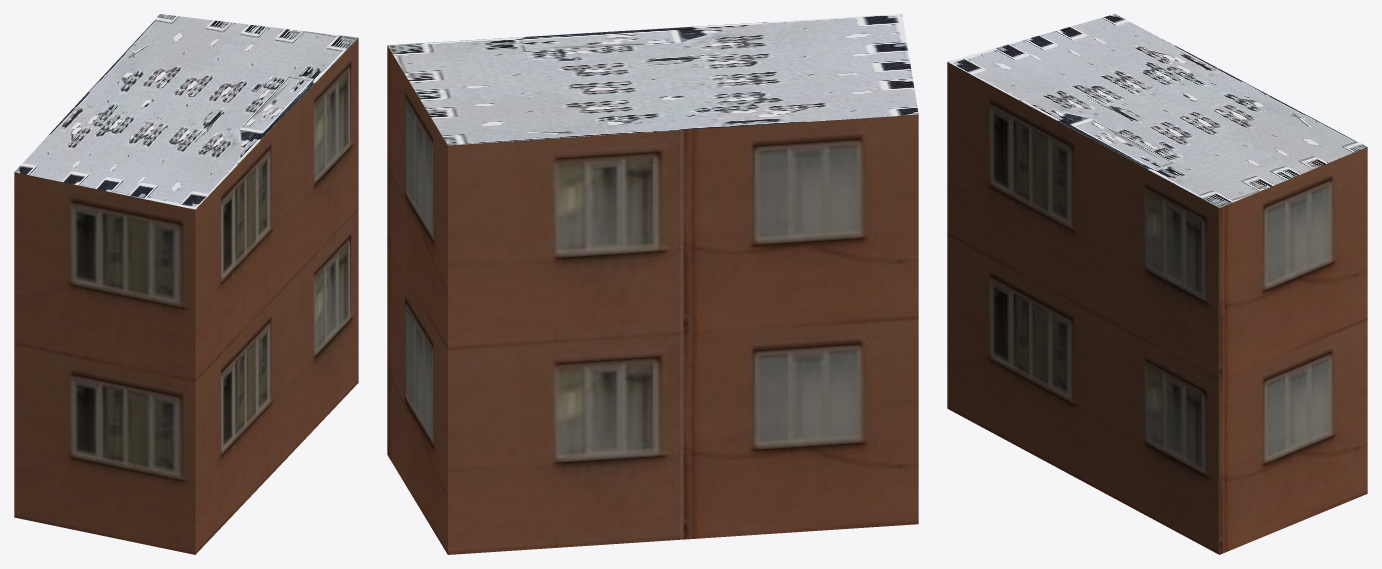
The model's file is ResTex__4532.fbx.
3 renders of one model, left to right at view 1: azimuth 30°, elevation 25°; view 2: azimuth 150°, elevation 25°; view 3: azimuth 270°, elevation 25°, orthographic. The views are drawn at different scales.
Visible parts, largest first — view 1: CityEngineMaterial_20_m, CityEngineMaterial_m; view 2: CityEngineMaterial_20_m, CityEngineMaterial_m; view 3: CityEngineMaterial_20_m, CityEngineMaterial_m.
Boxes of the visible parts, <box> form: CityEngineMaterial_20_m: <box>14,38,358,554</box>; CityEngineMaterial_m: <box>14,14,357,209</box>; CityEngineMaterial_20_m: <box>387,46,918,554</box>; CityEngineMaterial_m: <box>387,14,918,145</box>; CityEngineMaterial_20_m: <box>947,62,1367,554</box>; CityEngineMaterial_m: <box>947,14,1367,207</box>.
Bounding box in the file's own units: 7.2 × 6 × 6.6.
2 materials, 2 textured.
